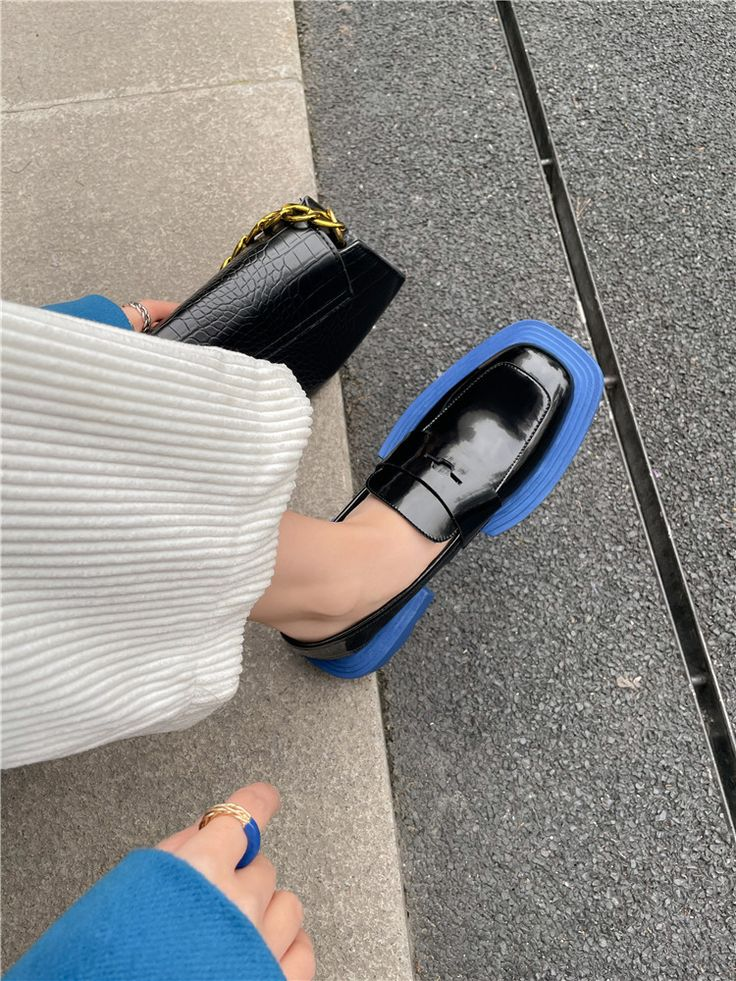cuero: (123, 217, 406, 401)
